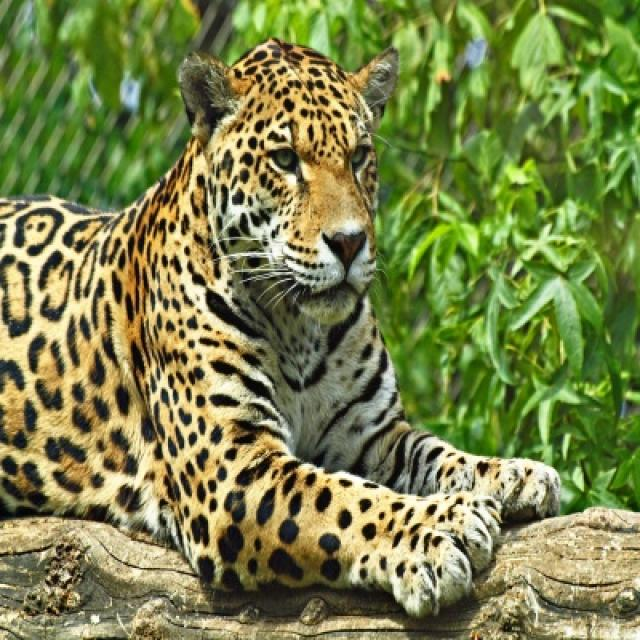Jaguar: (0, 38, 562, 621)
